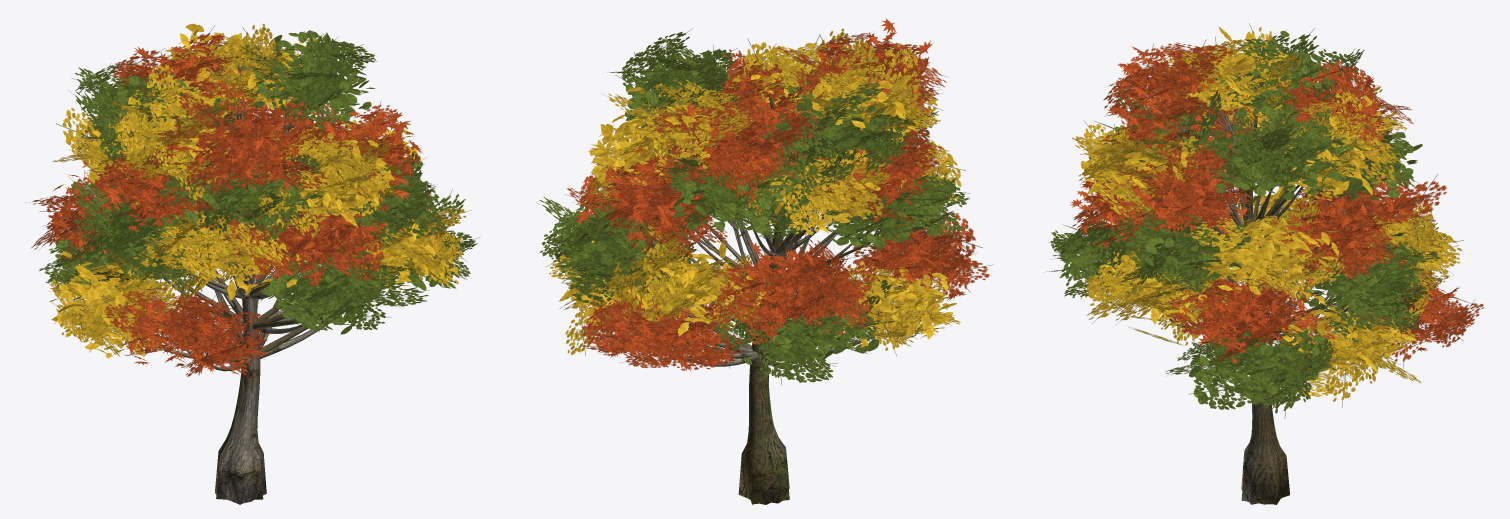
Rendered from woodland.glb.
3 renders of one model, left to right at view 1: azimuth 30°, elevation 25°; view 2: azimuth 150°, elevation 25°; view 3: azimuth 270°, elevation 25°, orthographic. The views are drawn at different scales.
Parts seen in each view (by area): view 1: Leaves_1_1, Leaves_0_1, Leaves_2_1, Leaves_2_0, Leaves_1_0, Leaves_0_0, Branches_0_0, Branches_2_0, Branches_1_0, Branches_0_1, Branches_2_1, Branches_1_1; view 2: Leaves_2_1, Leaves_0_1, Leaves_1_1, Leaves_2_0, Leaves_1_0, Leaves_0_0, Branches_0_0, Branches_2_0, Branches_1_0, Branches_1_1, Branches_0_1, Branches_2_1; view 3: Leaves_0_1, Leaves_2_1, Leaves_1_1, Leaves_2_0, Leaves_0_0, Leaves_1_0, Branches_2_0, Branches_0_0, Branches_1_0, Branches_1_1.
Part boxes in pixels (<box>): Leaves_1_1: <box>45,23,470,356</box>; Leaves_0_1: <box>39,31,477,332</box>; Leaves_2_1: <box>25,26,445,378</box>; Leaves_2_0: <box>49,33,448,375</box>; Leaves_1_0: <box>49,23,436,358</box>; Leaves_0_0: <box>54,30,459,334</box>; Branches_0_0: <box>91,72,418,503</box>; Branches_2_0: <box>83,57,388,503</box>; Branches_1_0: <box>82,62,408,504</box>; Branches_0_1: <box>150,97,392,412</box>; Branches_2_1: <box>147,86,354,417</box>; Branches_1_1: <box>160,71,402,411</box>; Leaves_2_1: <box>564,33,992,370</box>; Leaves_0_1: <box>537,28,969,385</box>; Leaves_1_1: <box>549,28,965,355</box>; Leaves_2_0: <box>575,19,966,371</box>; Leaves_1_0: <box>559,47,956,347</box>; Leaves_0_0: <box>558,52,940,364</box>; Branches_0_0: <box>604,93,874,504</box>; Branches_2_0: <box>612,94,933,504</box>; Branches_1_0: <box>620,95,921,503</box>; Branches_1_1: <box>686,108,891,403</box>; Branches_0_1: <box>682,108,885,396</box>; Branches_2_1: <box>654,93,924,403</box>; Leaves_0_1: <box>1046,28,1441,418</box>; Leaves_2_1: <box>1072,39,1483,368</box>; Leaves_1_1: <box>1072,23,1463,407</box>; Leaves_2_0: <box>1070,46,1464,363</box>; Leaves_0_0: <box>1060,31,1422,407</box>; Leaves_1_0: <box>1081,27,1444,383</box>; Branches_2_0: <box>1107,74,1424,504</box>; Branches_0_0: <box>1194,94,1388,504</box>; Branches_1_0: <box>1119,74,1344,504</box>; Branches_1_1: <box>1169,74,1337,400</box>.
Bounding box in the file's own units: 8.33 × 8.25 × 8.06.
Materials: 7 (7 with a texture image).
